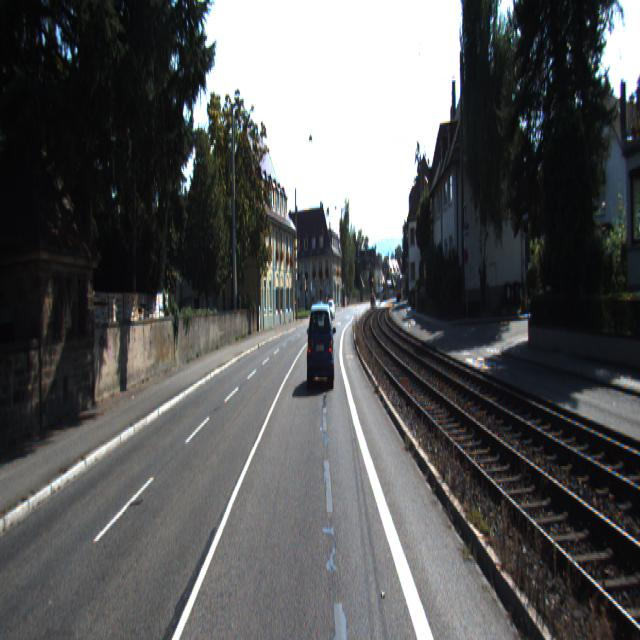Car: (306, 301, 336, 392)
